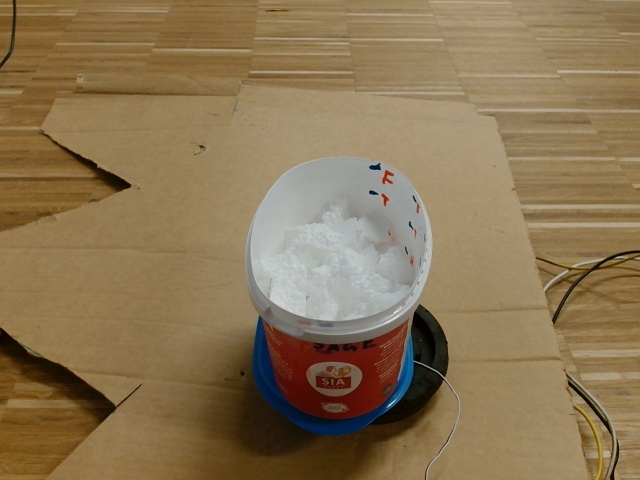Big_half: (247, 153, 438, 346)
